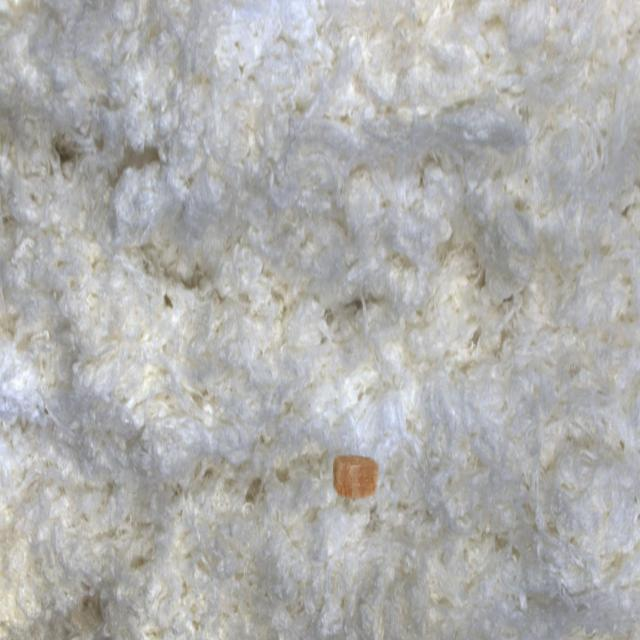dust: (298, 410, 408, 530)
